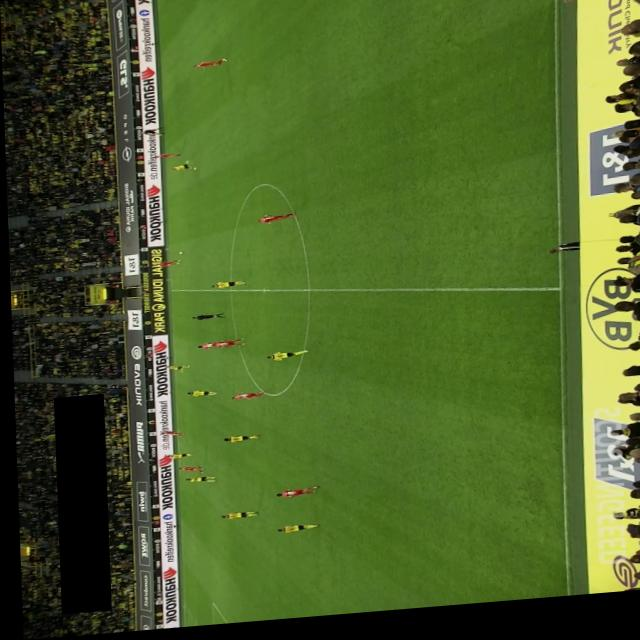player: (271, 490, 316, 503), (262, 353, 307, 366), (272, 527, 316, 538), (254, 216, 294, 228), (216, 513, 255, 523), (192, 60, 226, 71), (169, 161, 197, 174), (228, 394, 264, 404), (208, 341, 243, 351), (208, 282, 243, 292), (219, 437, 257, 446), (181, 478, 213, 487), (175, 467, 201, 477), (183, 392, 214, 400), (157, 431, 181, 440), (164, 366, 187, 375), (155, 261, 179, 269), (163, 454, 189, 461), (194, 345, 213, 353), (154, 155, 180, 160)
referee: (189, 314, 223, 323), (140, 128, 163, 139)
